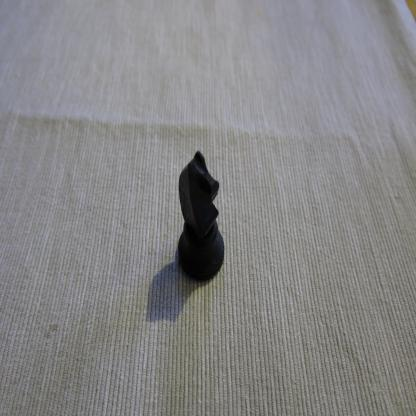black-knight: (176, 148, 226, 286)
